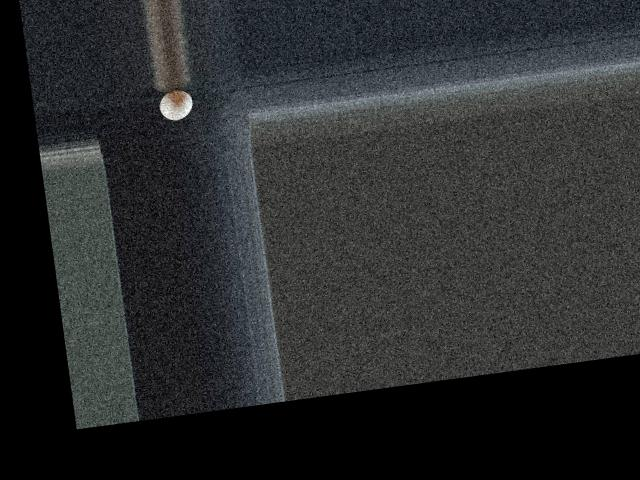egg: (158, 88, 195, 122)
